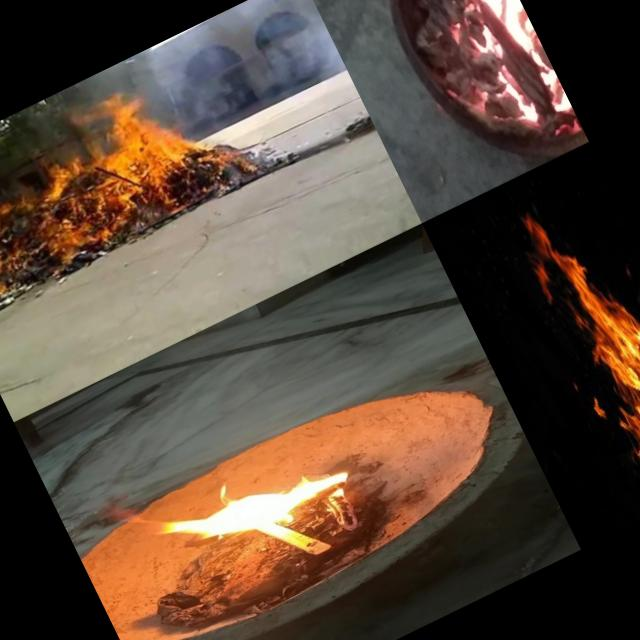fire: (0, 79, 230, 319), (124, 402, 378, 600), (508, 185, 640, 506), (415, 0, 581, 158)
smoke: (160, 0, 346, 139), (108, 42, 176, 100)
